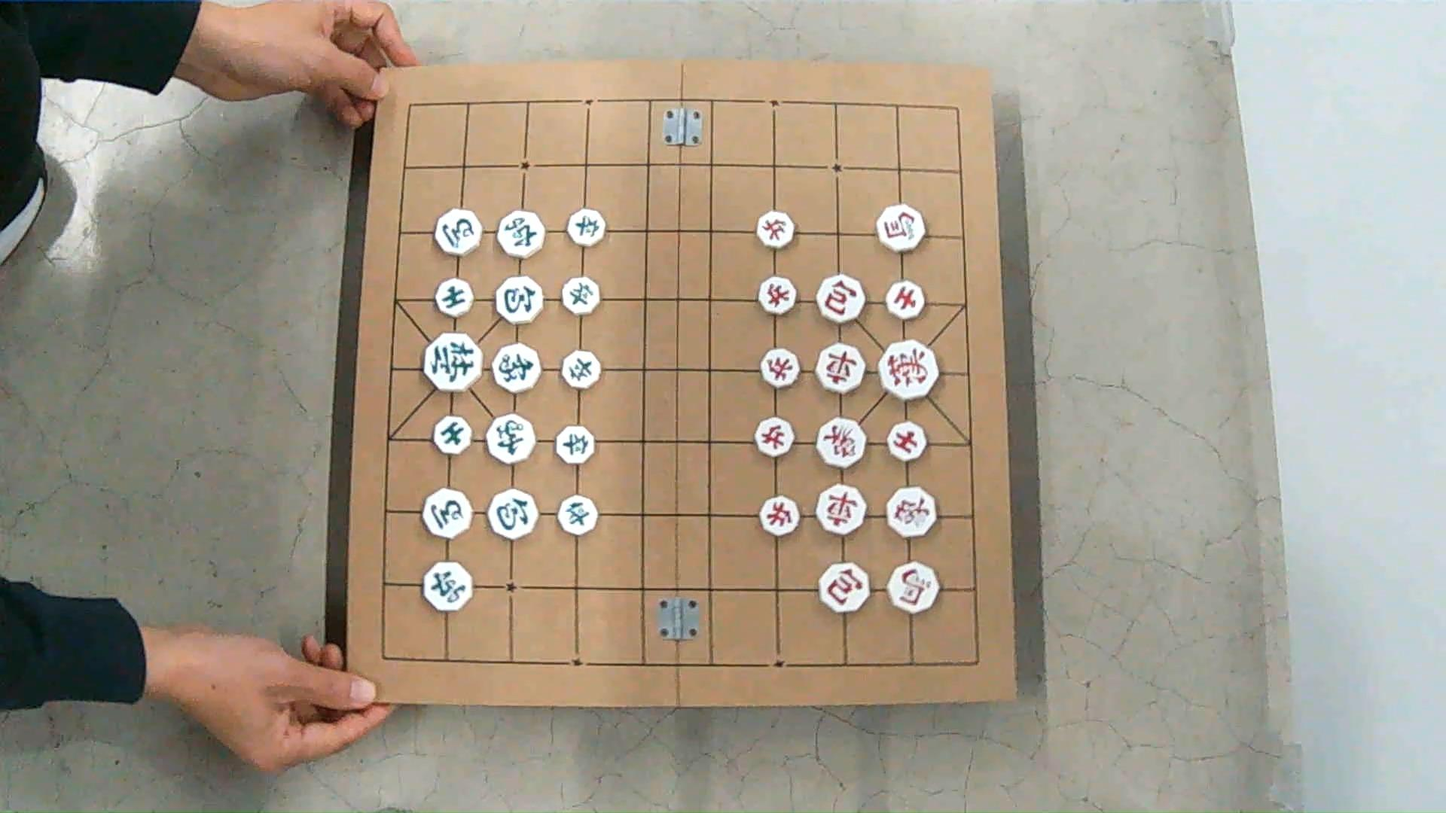cha_green: (424, 562, 472, 611), (498, 211, 544, 258)
cha_red: (815, 343, 864, 393), (816, 485, 865, 534)
jol_green: (557, 495, 597, 535), (556, 426, 594, 464), (561, 351, 599, 389), (562, 277, 599, 315), (568, 209, 605, 246)
jol_red: (759, 496, 799, 536), (754, 418, 793, 457), (760, 348, 798, 388), (757, 276, 795, 315), (755, 211, 794, 248)
ma_green: (434, 209, 485, 257), (423, 489, 471, 537)
ma_red: (888, 562, 938, 613), (877, 204, 923, 252)
po_green: (487, 489, 537, 540), (496, 276, 542, 324)
po_red: (819, 562, 869, 612), (817, 275, 865, 323)
sa_green: (434, 278, 475, 318), (434, 416, 470, 454)
sa_red: (886, 422, 927, 461), (885, 281, 924, 319)
sang_green: (486, 414, 535, 464), (491, 344, 539, 392)
sang_red: (886, 486, 938, 538), (816, 418, 865, 467)
wang_green: (423, 332, 484, 392)
wang_red: (877, 339, 940, 401)
